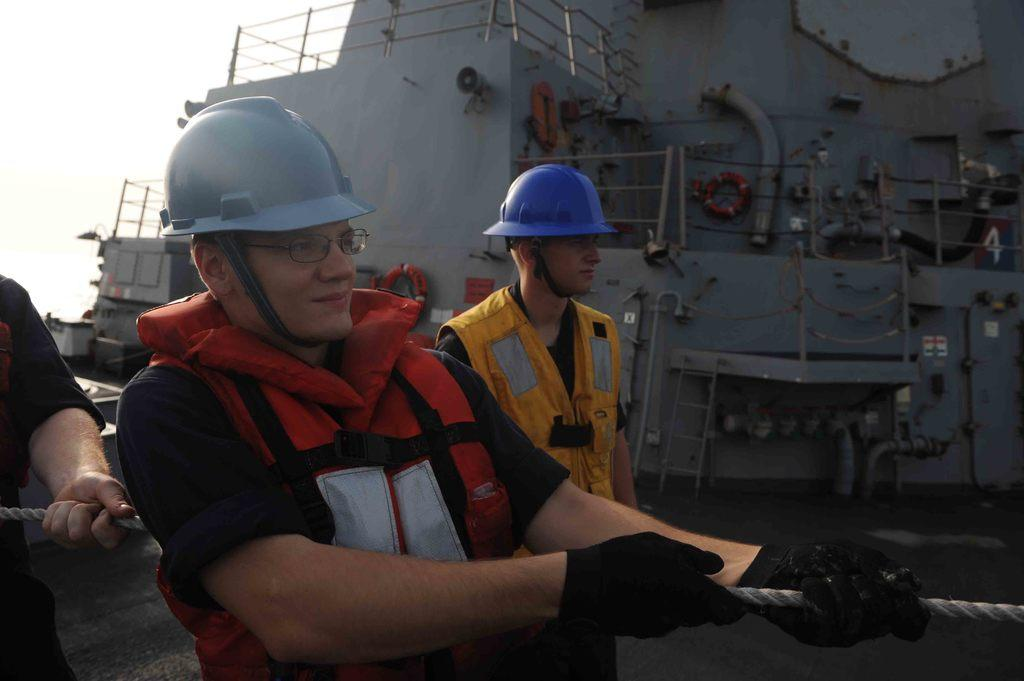helmet: (160, 96, 378, 336), (482, 164, 618, 294)
